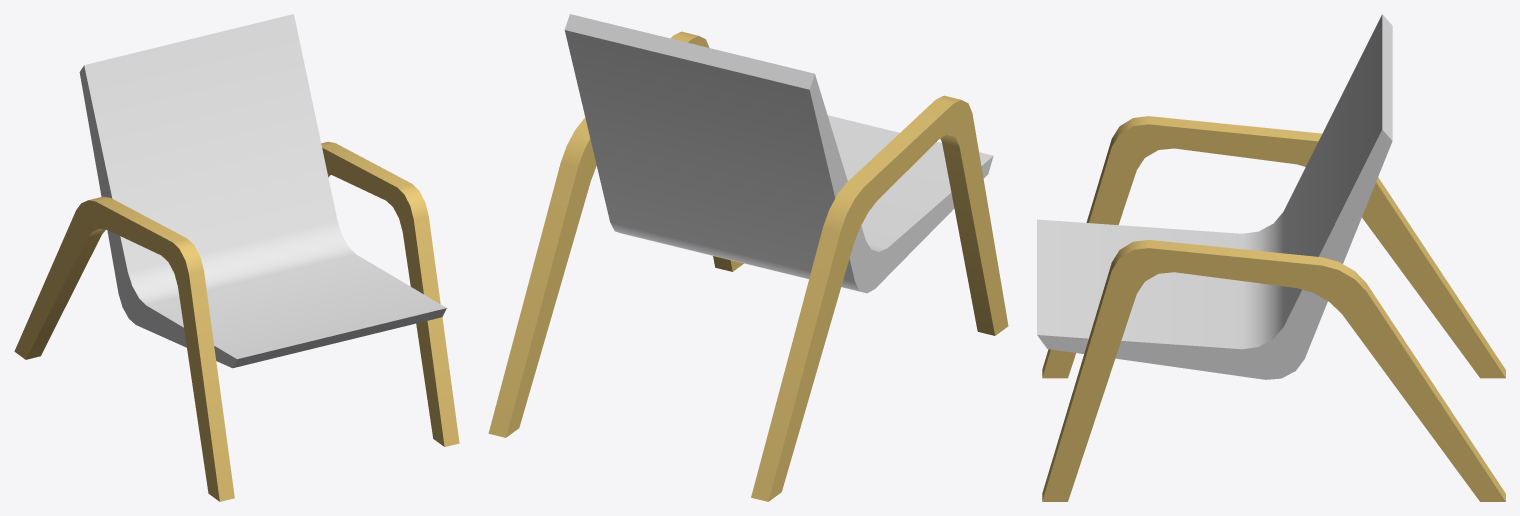
Rendered from Chair.fbx.
3 views of the same model, side by side, from view 1: azimuth 30°, elevation 25°; view 2: azimuth 150°, elevation 25°; view 3: azimuth 270°, elevation 25° (orthographic). The views are drawn at different scales.
Parts seen in each view (by area): view 1: Chair; view 2: Chair; view 3: Chair.
Part boxes in pixels (box(x1,y1,x2,y2)): Chair: box(14, 14, 459, 501); Chair: box(488, 14, 1008, 501); Chair: box(1037, 14, 1505, 501).
Size of the model in its own units: 160 by 206 by 240.
1 material, 1 textured.
